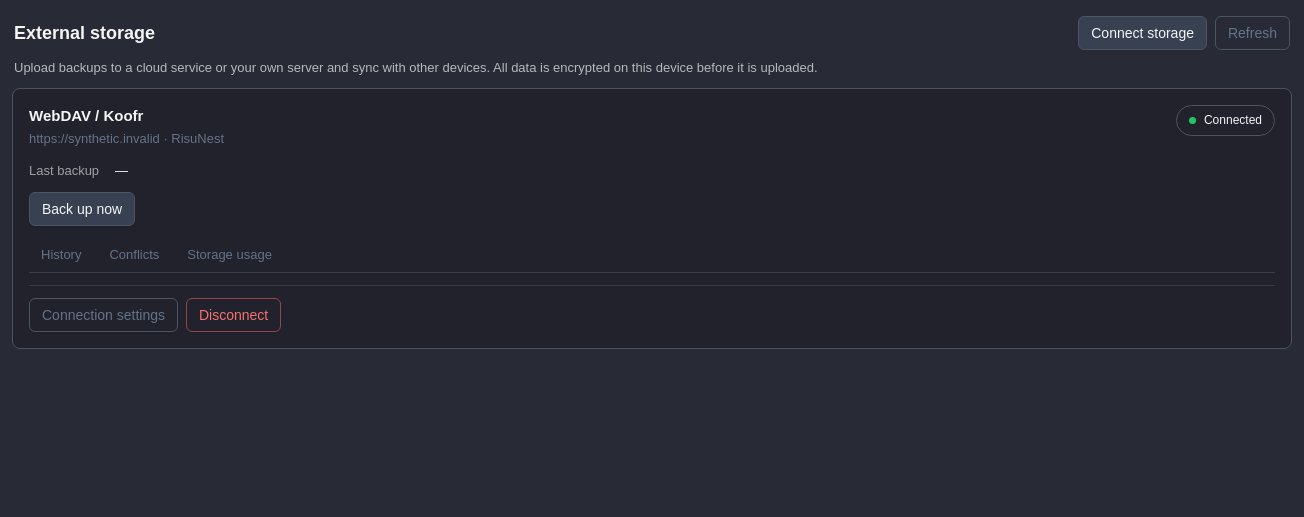
Scenario: the storage usage tab › shows the stored limits even when the usage request fails
Click the tab "Storage usage": (230, 256) [175,238,284,273]
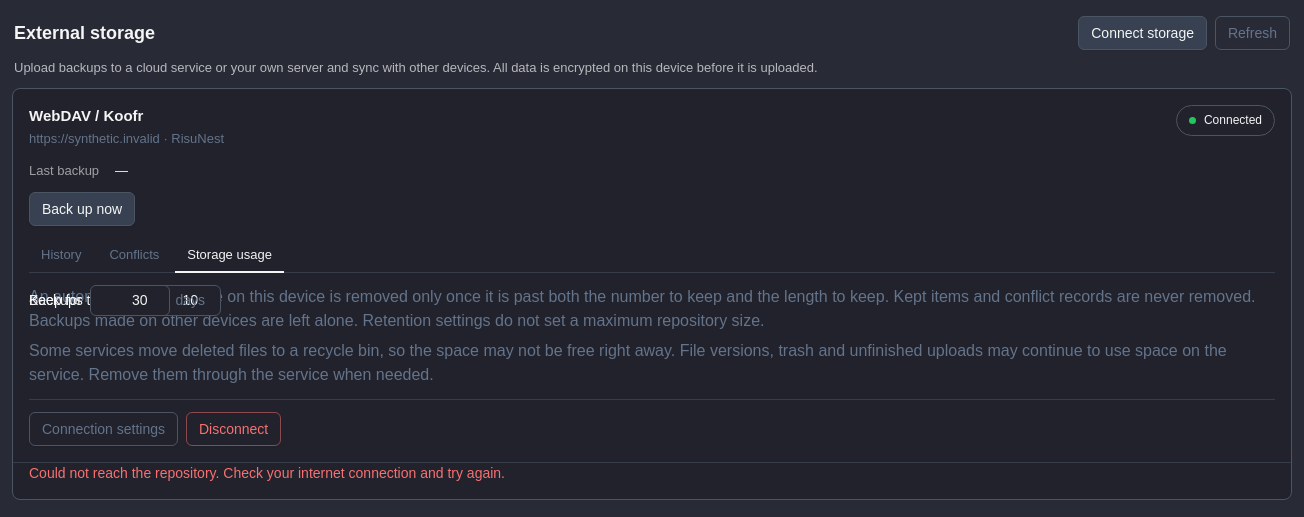
expect the number field labelled "Backups to keep" holds "10": met, box [140,285,220,316]
expect the number field labelled "Keep for days" holds "30": met, box [90,285,170,316]
